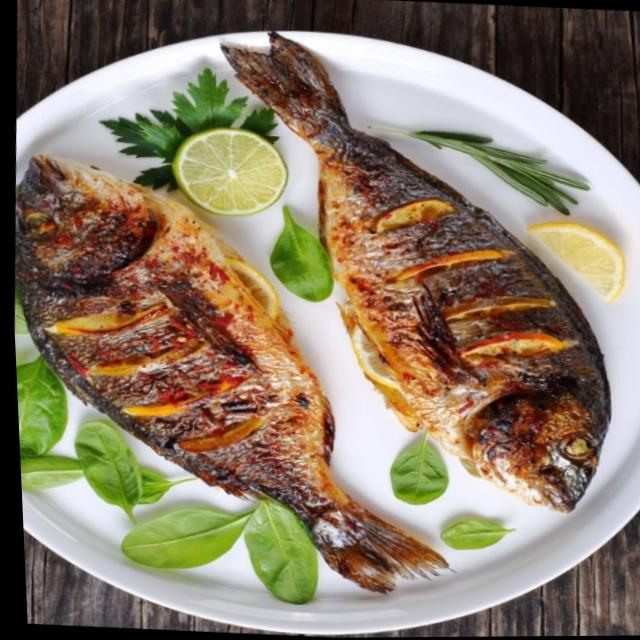FISH FRY: (14, 153, 451, 598), (218, 28, 617, 511)
